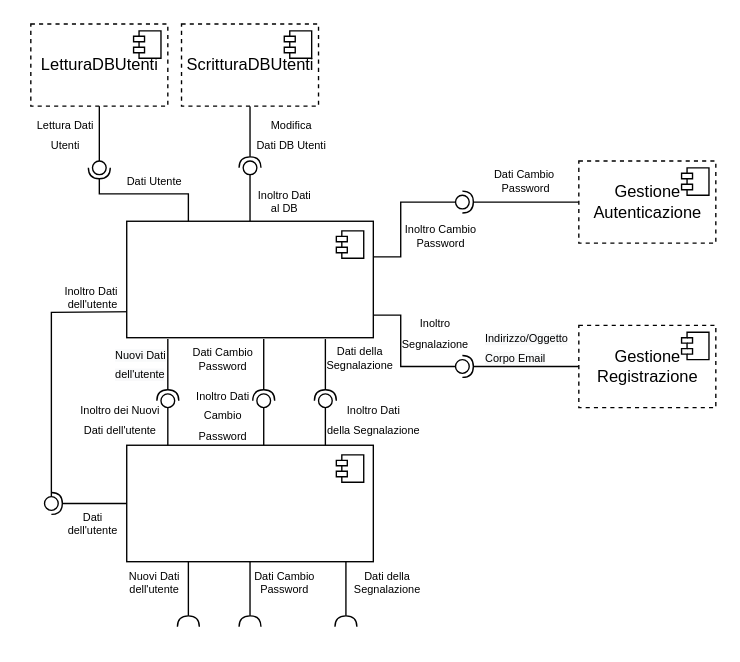
This 740x662 diagram has some shape labels left out. The shapes that lost their labels are listed below. From the top down, each one's box as (x1, y1, x2, y2) in pixels, then its label:
(125, 220, 373, 338): Gestione Pagina Utente
(125, 444, 373, 562): Pagina Utente
